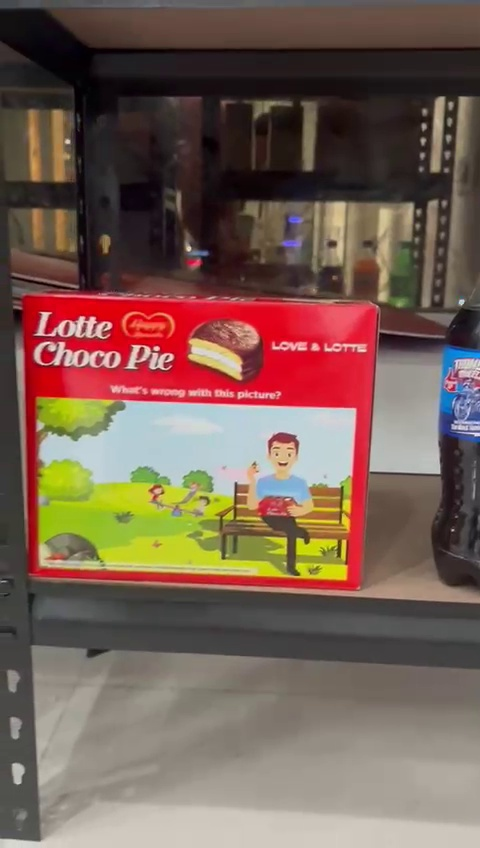Lotte Chocopie: (19, 293, 365, 585)
